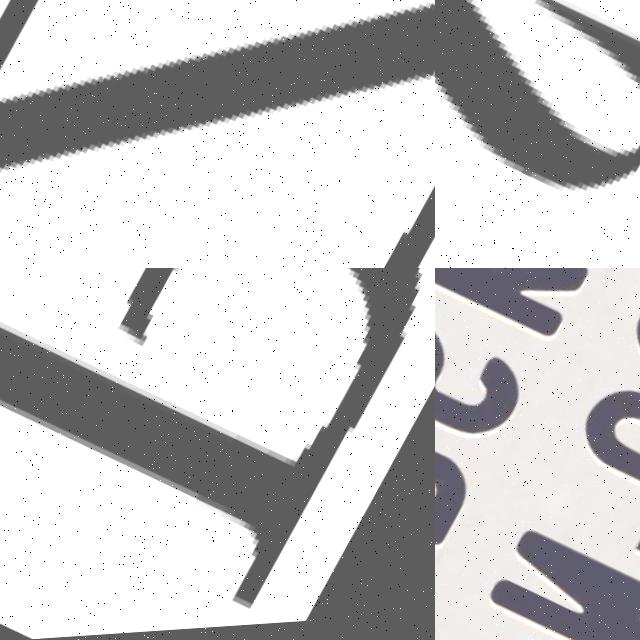0: (565, 368, 640, 570)
6: (435, 268, 538, 468)
K: (435, 268, 598, 359)
N: (484, 512, 640, 640)
P: (0, 268, 423, 615)
R: (435, 355, 492, 564)
S: (435, 0, 640, 268)
Z: (0, 0, 435, 268)
